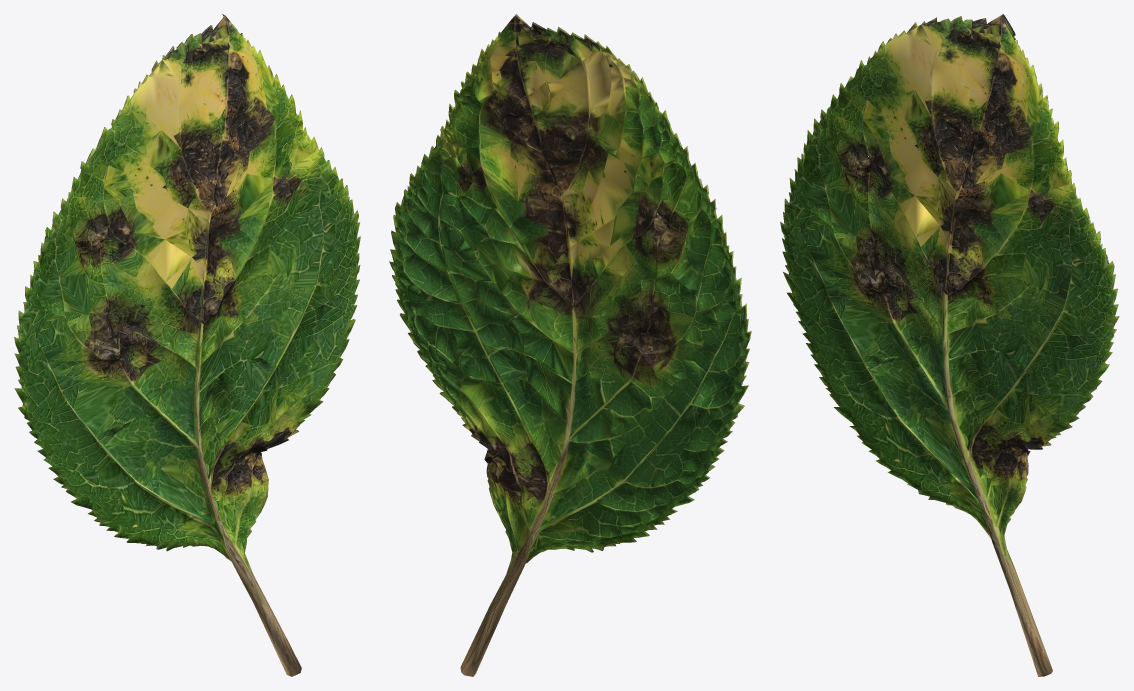
The model's file is apple_apple_scab.glb.
3 renders of one model, left to right at view 1: azimuth 30°, elevation 25°; view 2: azimuth 150°, elevation 25°; view 3: azimuth 330°, elevation 25°, orthographic. The views are drawn at different scales.
Visible parts, largest first — view 1: apple_apple_scab; view 2: apple_apple_scab; view 3: apple_apple_scab.
Part boxes in pixels (<box>): apple_apple_scab: <box>14,14,360,676</box>; apple_apple_scab: <box>389,14,751,676</box>; apple_apple_scab: <box>780,14,1119,676</box>.
Bounding box in the file's own units: 0.5506 × 1 × 0.0596.
1 material, 1 textured.
